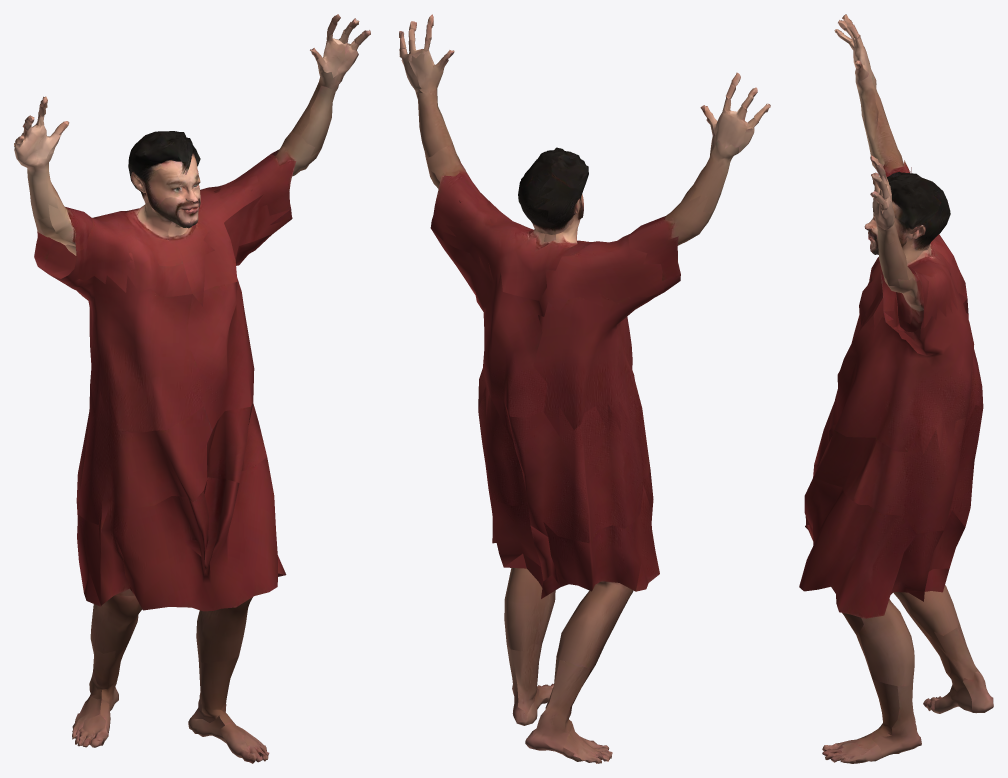
The model's file is plebs_m2_cheer.glb.
The picture shows the model from 3 angles, left to right: view 1: azimuth 30°, elevation 25°; view 2: azimuth 150°, elevation 25°; view 3: azimuth 270°, elevation 25°; orthographic projection. The views are drawn at different scales.
Bounding box in the file's own units: 0.5469 × 0.998 × 0.2705.
1 material, 1 textured.
